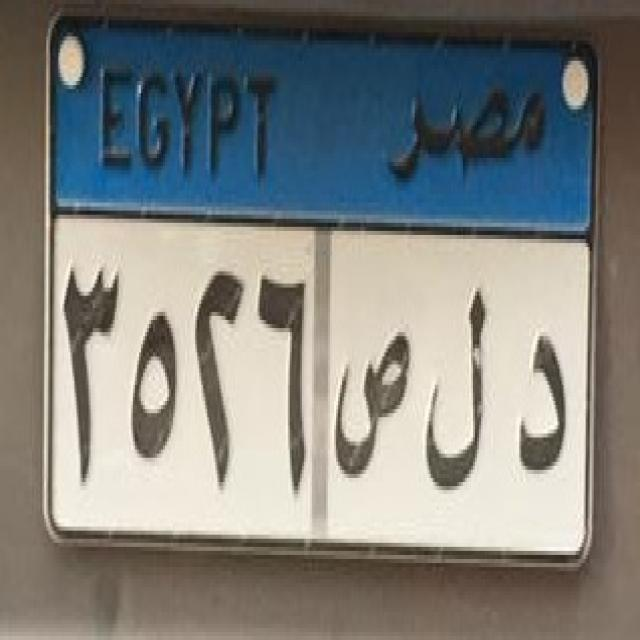2: (188, 252, 252, 501)
3: (49, 247, 124, 503)
5: (124, 302, 185, 468)
6: (246, 256, 318, 504)
Laam: (418, 281, 496, 507)
Saad: (326, 314, 422, 486)
daal: (510, 318, 578, 490)
